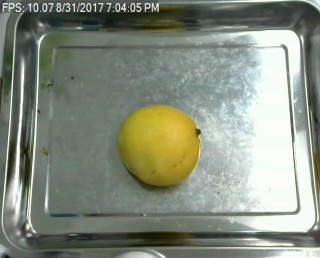Mango: (114, 102, 204, 192)
